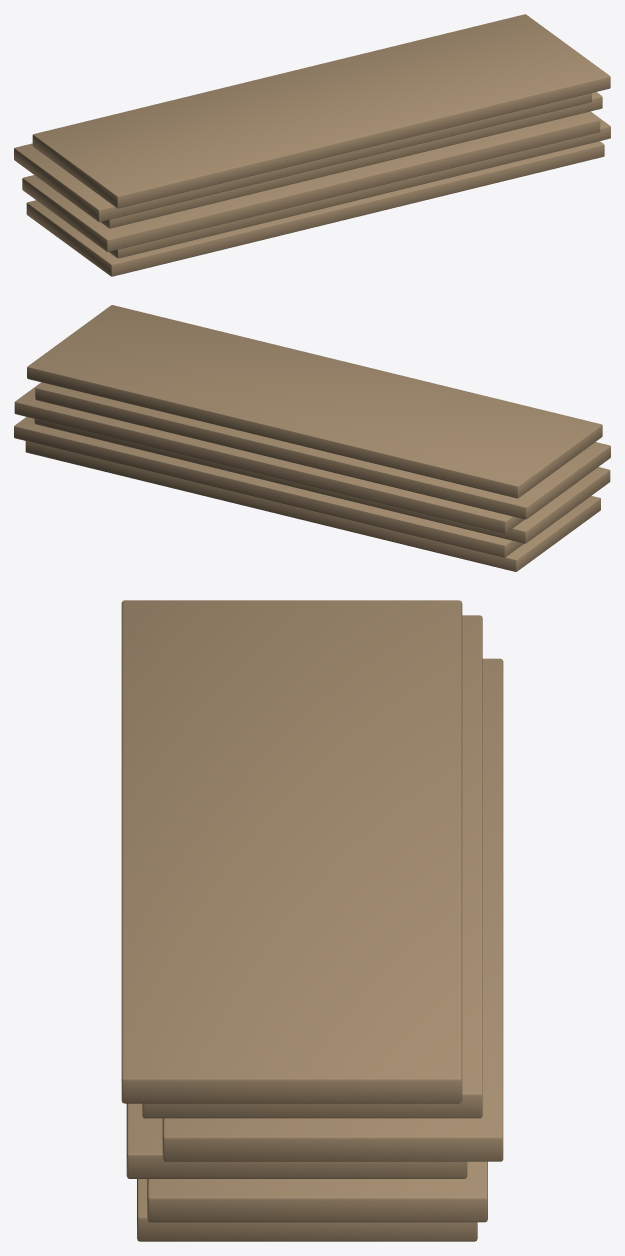
Rendered from plank_stack.glb.
3 views of the same model, one above another, from view 1: azimuth 30°, elevation 25°; view 2: azimuth 150°, elevation 25°; view 3: azimuth 270°, elevation 25° (orthographic). The views are drawn at different scales.
Parts seen in each view (by area): view 1: plank_stack; view 2: plank_stack; view 3: plank_stack.
Part boxes in pixels (box(x1,y1,x2,y2)): plank_stack: box(14, 14, 610, 276); plank_stack: box(14, 305, 610, 571); plank_stack: box(121, 600, 503, 1241).
Bounding box in the file's own units: 2.29 × 0.355 × 0.74.
